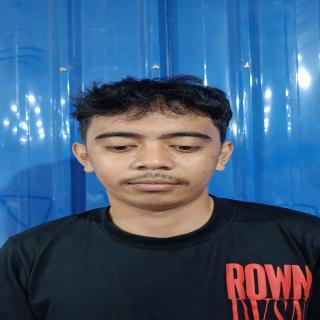Sedih: (80, 103, 228, 213)
